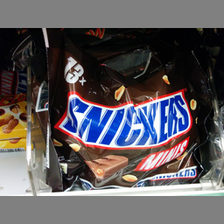chocolate: (42, 46, 214, 194)
